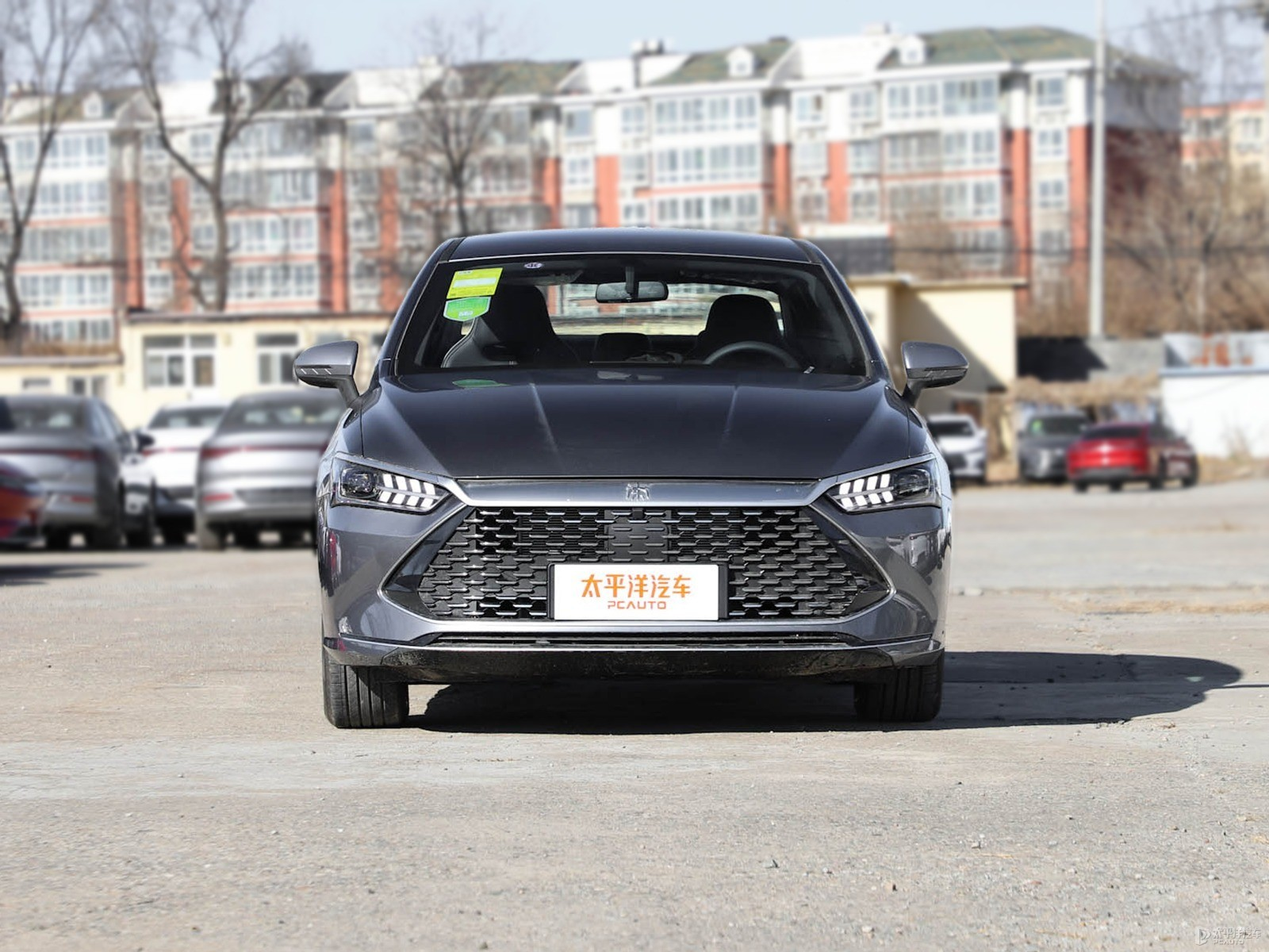BYD Qin: (627, 483, 650, 499)
